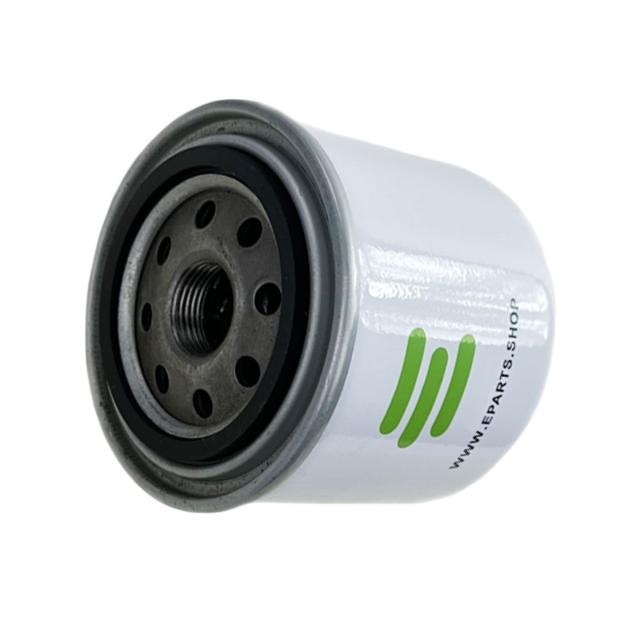oil_filter: (62, 90, 564, 524)
